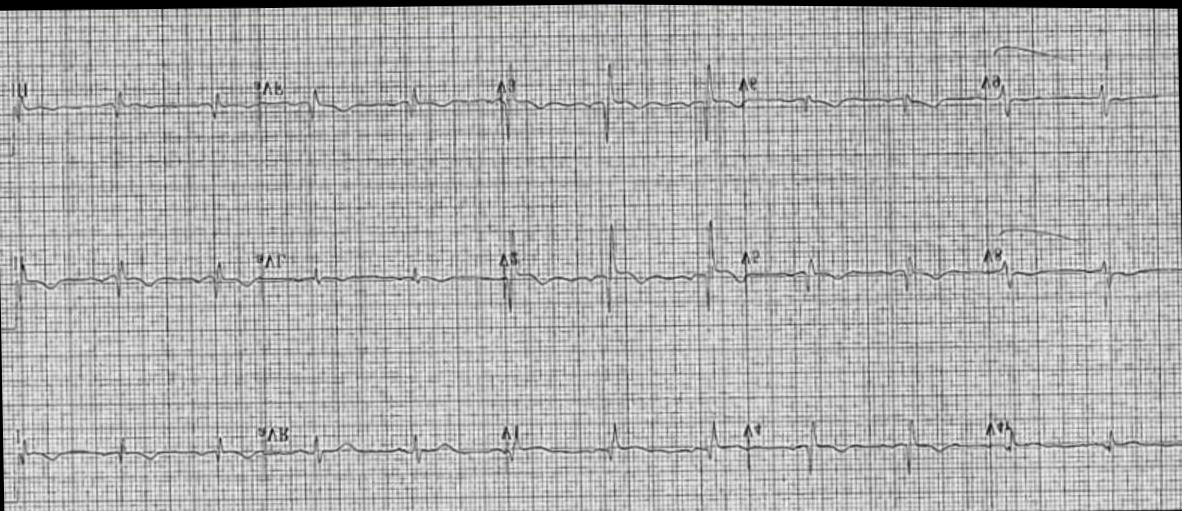Lead_I: (8, 230, 250, 327), (13, 394, 256, 488)
Lead_II: (13, 63, 250, 155)
Lead_V1: (500, 389, 746, 492)
Lead_V2: (493, 221, 740, 325)
Lead_V3: (496, 49, 738, 149)
Lead_V4: (744, 385, 989, 494)
Lead_V5: (736, 210, 980, 322)
Lead_V6: (737, 40, 980, 151)
Lead_aVF: (246, 54, 492, 150)
Lead_aVL: (250, 222, 494, 331)
Lead_aVR: (254, 386, 500, 489)
